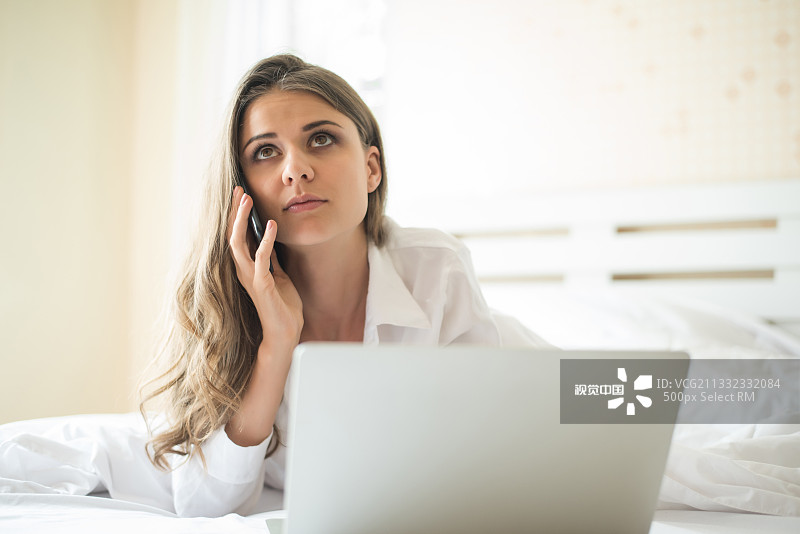calling: (201, 164, 335, 360)
